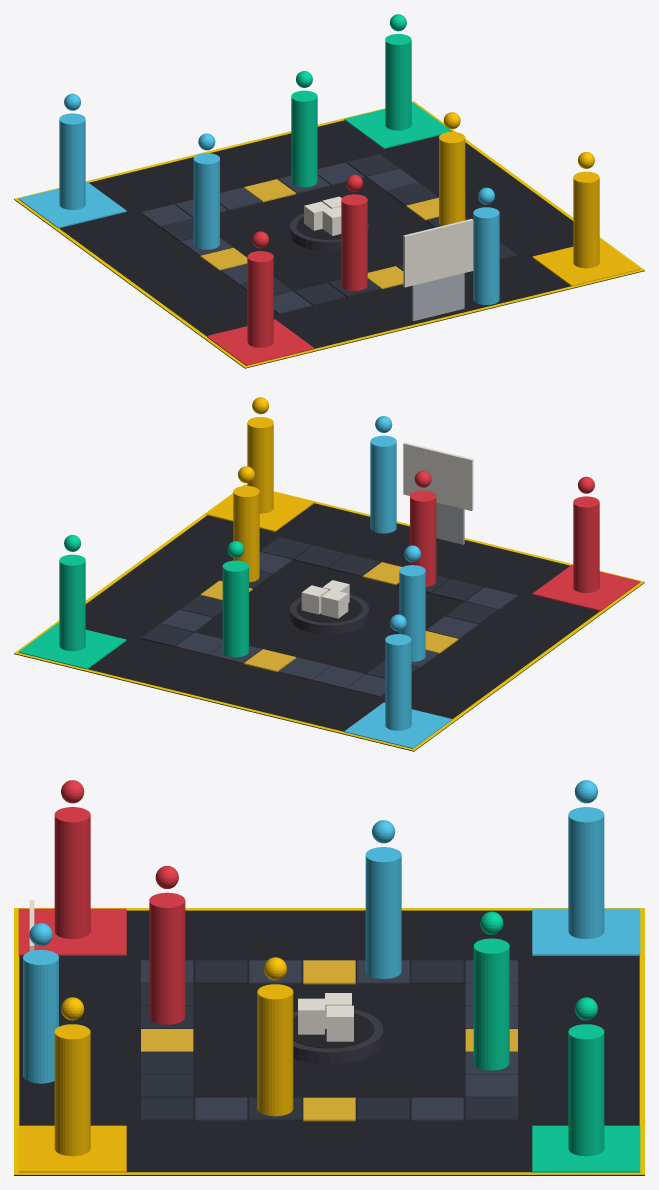
Rendered from G03_THE_RUN.obj.
3 views of the same model, one above another, from view 1: azimuth 30°, elevation 25°; view 2: azimuth 150°, elevation 25°; view 3: azimuth 270°, elevation 25° (orthographic). The views are drawn at different scales.
Visible parts, largest first — view 1: floor_area, progress_board, operator_body, player_home_1_body, player_home_0_body, pawn_0_body, pawn_2_body, player_home_2_body, player_home_3_body, pawn_3_body, pawn_1_body, home_base_2 (+22 smaller); view 2: floor_area, progress_board, operator_body, pawn_2_body, player_home_2_body, player_home_3_body, player_home_0_body, home_base_0, home_base_2, home_base_3, pawn_3_body, player_home_1_body (+28 smaller); view 3: floor_area, player_home_1_body, player_home_2_body, pawn_1_body, pawn_2_body, pawn_0_body, pawn_3_body, player_home_0_body, player_home_3_body, operator_body, home_base_3, home_base_1 (+28 smaller).
Part boxes in pixels (bbox=[...]): floor_area: bbox=[14, 120, 644, 368]; progress_board: bbox=[403, 219, 473, 287]; operator_body: bbox=[473, 207, 499, 304]; player_home_1_body: bbox=[573, 171, 599, 268]; player_home_0_body: bbox=[247, 251, 273, 347]; pawn_0_body: bbox=[341, 194, 367, 290]; pawn_2_body: bbox=[291, 90, 317, 187]; player_home_2_body: bbox=[385, 34, 411, 130]; player_home_3_body: bbox=[59, 113, 85, 209]; pawn_3_body: bbox=[193, 153, 219, 249]; pawn_1_body: bbox=[439, 132, 465, 225]; home_base_2: bbox=[344, 102, 452, 148]; floor_area: bbox=[14, 503, 644, 751]; progress_board: bbox=[403, 442, 473, 510]; operator_body: bbox=[370, 435, 396, 533]; pawn_2_body: bbox=[222, 560, 248, 657]; player_home_2_body: bbox=[59, 554, 85, 651]; player_home_3_body: bbox=[385, 634, 411, 730]; player_home_0_body: bbox=[573, 496, 599, 592]; home_base_0: bbox=[532, 564, 640, 611]; home_base_2: bbox=[18, 623, 126, 669]; home_base_3: bbox=[344, 702, 452, 748]; pawn_3_body: bbox=[399, 565, 425, 661]; player_home_1_body: bbox=[247, 417, 273, 513]; floor_area: bbox=[14, 910, 644, 1175]; player_home_1_body: bbox=[54, 1024, 90, 1156]; player_home_2_body: bbox=[568, 1024, 604, 1156]; pawn_1_body: bbox=[257, 984, 293, 1116]; pawn_2_body: bbox=[473, 938, 509, 1070]; pawn_0_body: bbox=[149, 892, 185, 1024]; pawn_3_body: bbox=[365, 847, 401, 978]; player_home_0_body: bbox=[54, 807, 90, 938]; player_home_3_body: bbox=[568, 807, 604, 938]; operator_body: bbox=[23, 950, 58, 1083]; home_base_3: bbox=[532, 908, 640, 955]; home_base_1: bbox=[18, 1125, 126, 1172].
Size of the model in its own units: 7 by 1.87 by 7.
